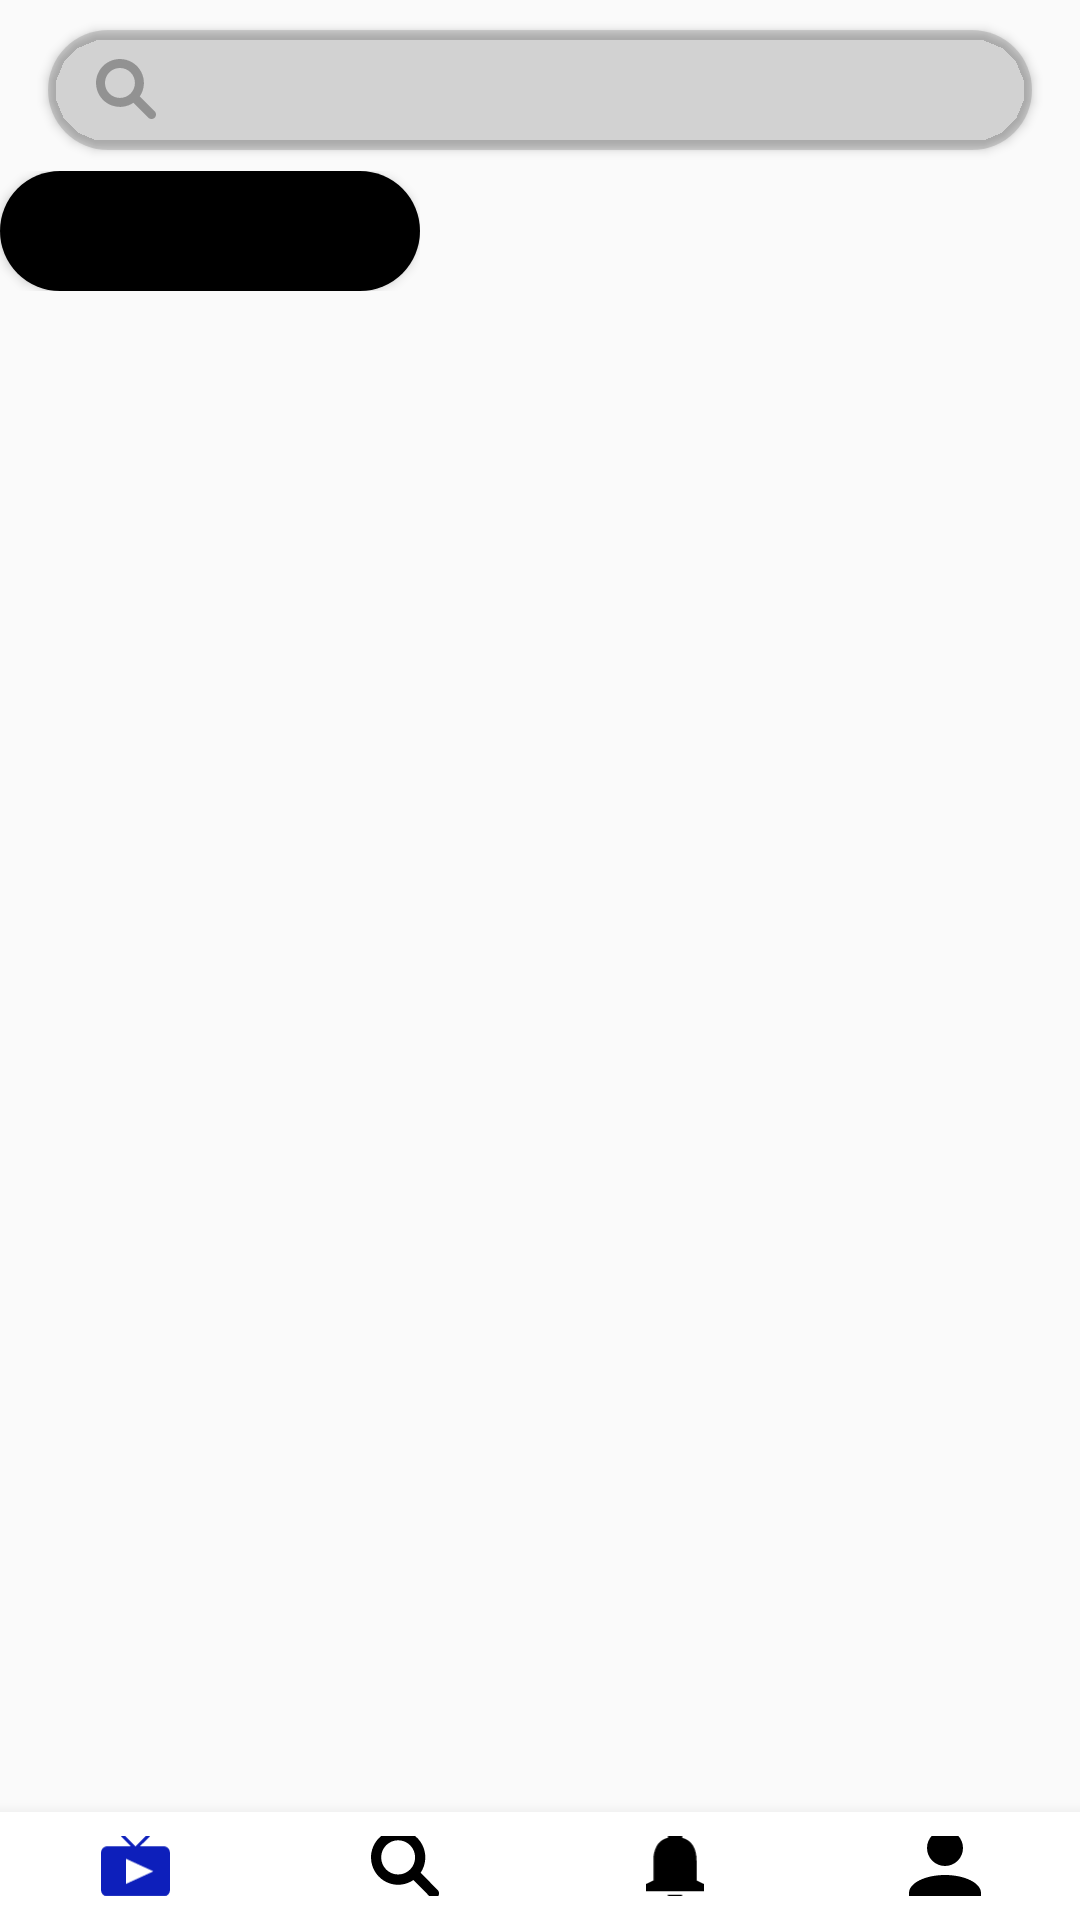

Icons on this 1080px x 1920px Android screen, each with its box as (x1, y1, x2, y2):
seacrh cat: (96, 59, 156, 119)
